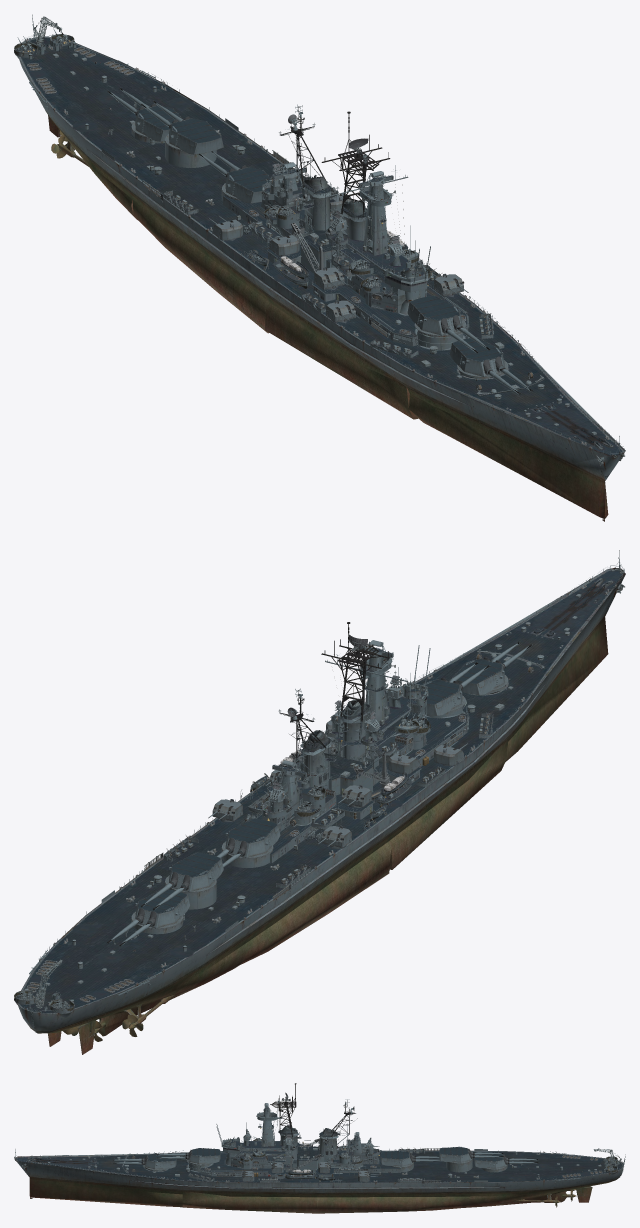
Rendered from us_super_battleship_oregon-maximum-compressed.glb.
3 views of the same model, one above another, from view 1: azimuth 30°, elevation 25°; view 2: azimuth 150°, elevation 25°; view 3: azimuth 270°, elevation 25° (orthographic). The views are drawn at different scales.
Parts seen in each view (by area): view 1: HP_MidFront, HP_Bow, HP_Stern, HP_AGM_2, HP_AGM_1, HP_AGM_4.002, HP_AGM_4.001, HP_AGM_4, object 615, HP_MidFront.002; view 2: HP_MidFront, HP_Stern, HP_Bow, HP_AGM_4.002, HP_AGM_4.001, HP_AGM_4, HP_AGM_1, HP_AGM_2, object 615, object 637; view 3: HP_MidFront, HP_Bow, HP_Stern, HP_AGM_4.002, HP_AGM_2, HP_AGM_4.001, HP_AGM_1, HP_AGM_4, object 615, HP_MidFront.002, MP_AM107_Aircraft_Cran_2_INDEX_1_28FDF085-7910-4257-B333-8B2, HP_MidBack.003_HP_MidBack.002_38909DE2-F008-4762-9B45-FB52D3.
Boxes of the visible parts, x1=… form: HP_MidFront: x1=126, y1=140, x2=521, y2=419; HP_Bow: x1=401, y1=338, x2=625, y2=521; HP_Stern: x1=14, y1=14, x2=269, y2=220; HP_AGM_2: x1=407, y1=295, x2=490, y2=353; HP_AGM_1: x1=450, y1=337, x2=532, y2=395; HP_AGM_4.002: x1=141, y1=100, x2=223, y2=154; HP_AGM_4.001: x1=198, y1=151, x2=269, y2=203; HP_AGM_4: x1=107, y1=87, x2=183, y2=141; object 615: x1=301, y1=226, x2=342, y2=273; HP_MidFront.002: x1=165, y1=140, x2=216, y2=167; HP_MidFront: x1=126, y1=655, x2=518, y2=964; HP_Stern: x1=14, y1=868, x2=268, y2=1054; HP_Bow: x1=415, y1=551, x2=625, y2=761; HP_AGM_4.002: x1=141, y1=852, x2=223, y2=910; HP_AGM_4.001: x1=216, y1=818, x2=280, y2=867; HP_AGM_4: x1=107, y1=889, x2=189, y2=946; HP_AGM_1: x1=452, y1=641, x2=532, y2=695; HP_AGM_2: x1=423, y1=661, x2=490, y2=715; object 615: x1=301, y1=756, x2=372, y2=795; object 637: x1=331, y1=656, x2=371, y2=721; HP_MidFront: x1=172, y1=1108, x2=461, y2=1213; HP_Bow: x1=14, y1=1149, x2=182, y2=1207; HP_Stern: x1=442, y1=1149, x2=625, y2=1207; HP_AGM_4.002: x1=439, y1=1146, x2=503, y2=1163; HP_AGM_2: x1=156, y1=1148, x2=220, y2=1164; HP_AGM_4.001: x1=380, y1=1150, x2=442, y2=1167; HP_AGM_1: x1=112, y1=1153, x2=176, y2=1170; HP_AGM_4: x1=474, y1=1152, x2=538, y2=1169; object 615: x1=293, y1=1146, x2=323, y2=1173; HP_MidFront.002: x1=446, y1=1159, x2=472, y2=1172; MP_AM107_Aircraft_Cran_2_INDEX_1_28FDF085-7910-4257-B333-8B2: x1=288, y1=1138, x2=321, y2=1170; HP_MidBack.003_HP_MidBack.002_38909DE2-F008-4762-9B45-FB52D3: x1=330, y1=1099, x2=357, y2=1144.
Bounding box in the file's own units: 24.66 × 39.9 × 192.
91 materials, 89 textured.
